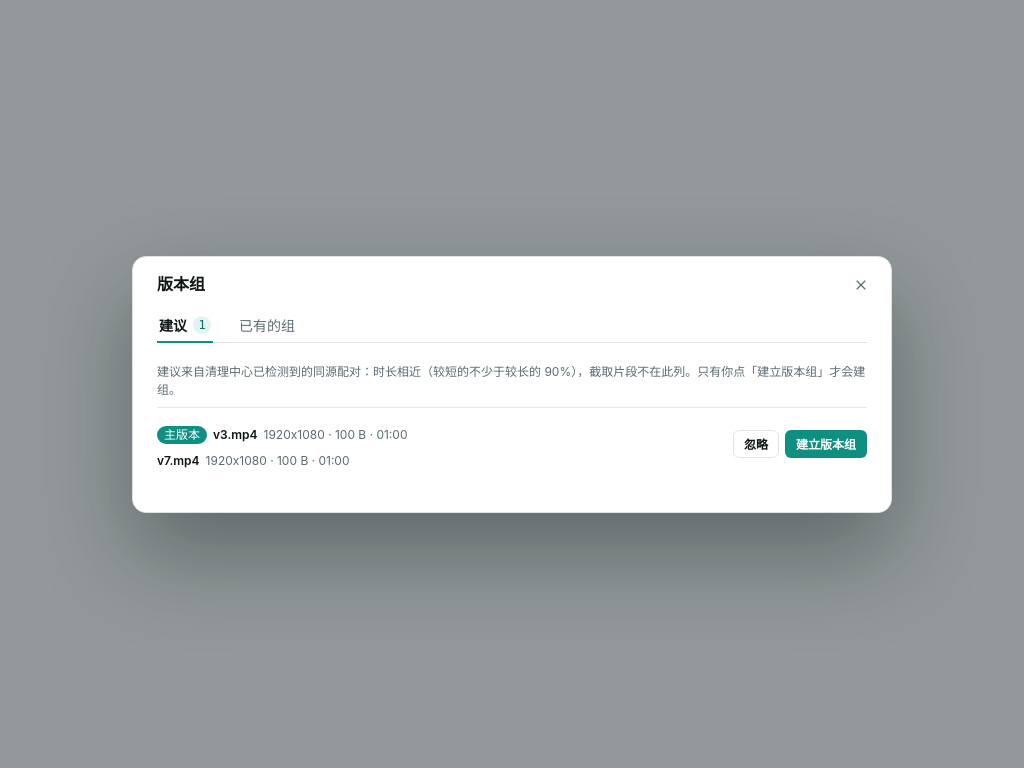
Test: VersionGroupPanel › 建组冲突时显示错误
This screenshot has width=1024, height=768.
Click the button with test id "version-panel-accept": (826, 444) [785,430,867,458]
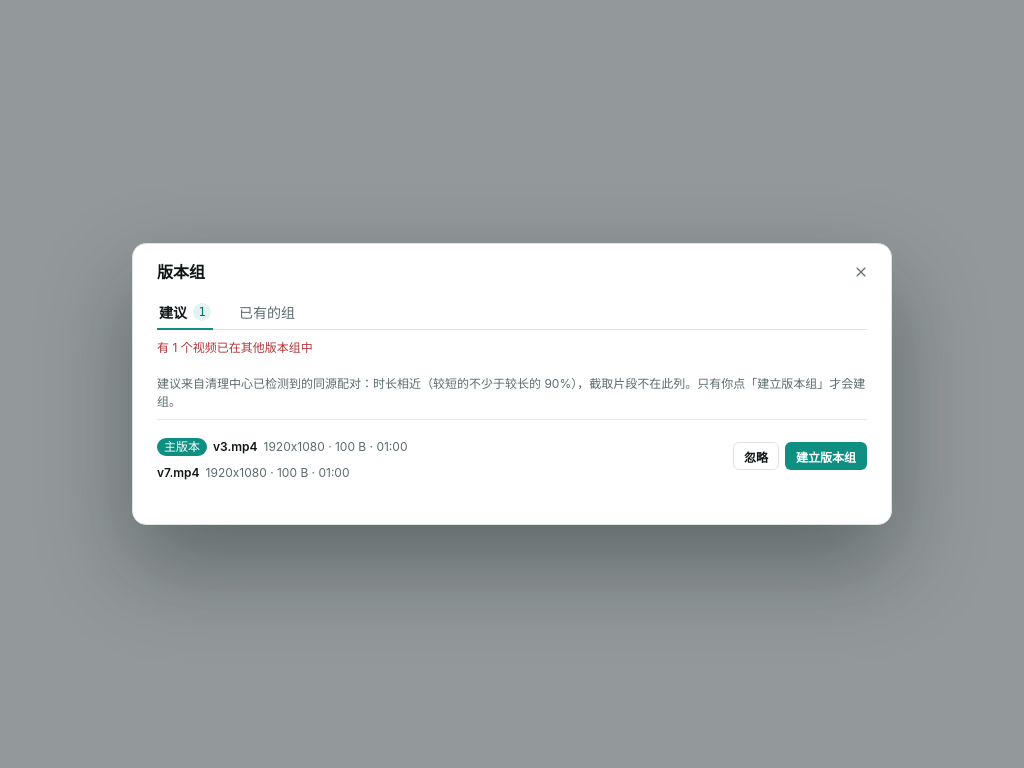
Expected: the message with test id "version-panel-error" shows "已在其他版本组中", [157,340,313,355]
